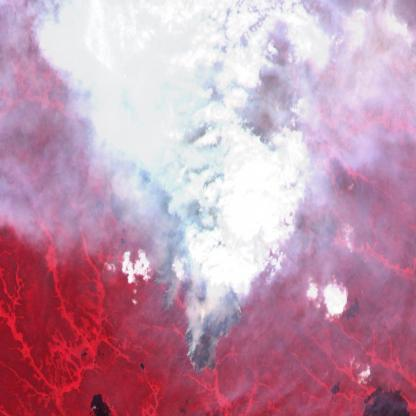fire: (132, 97, 244, 372)
